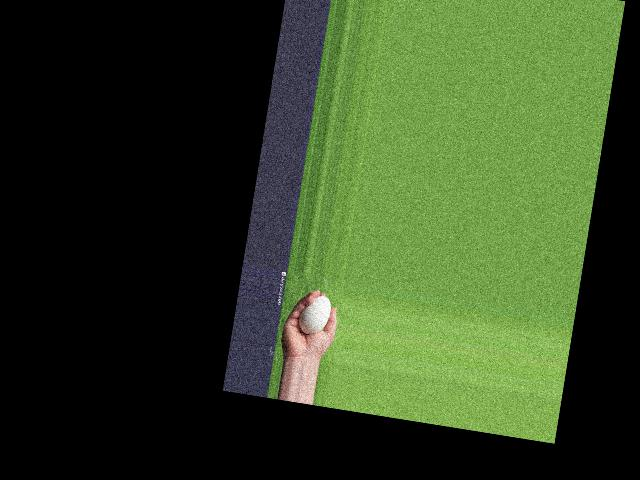egg: (296, 293, 332, 338)
